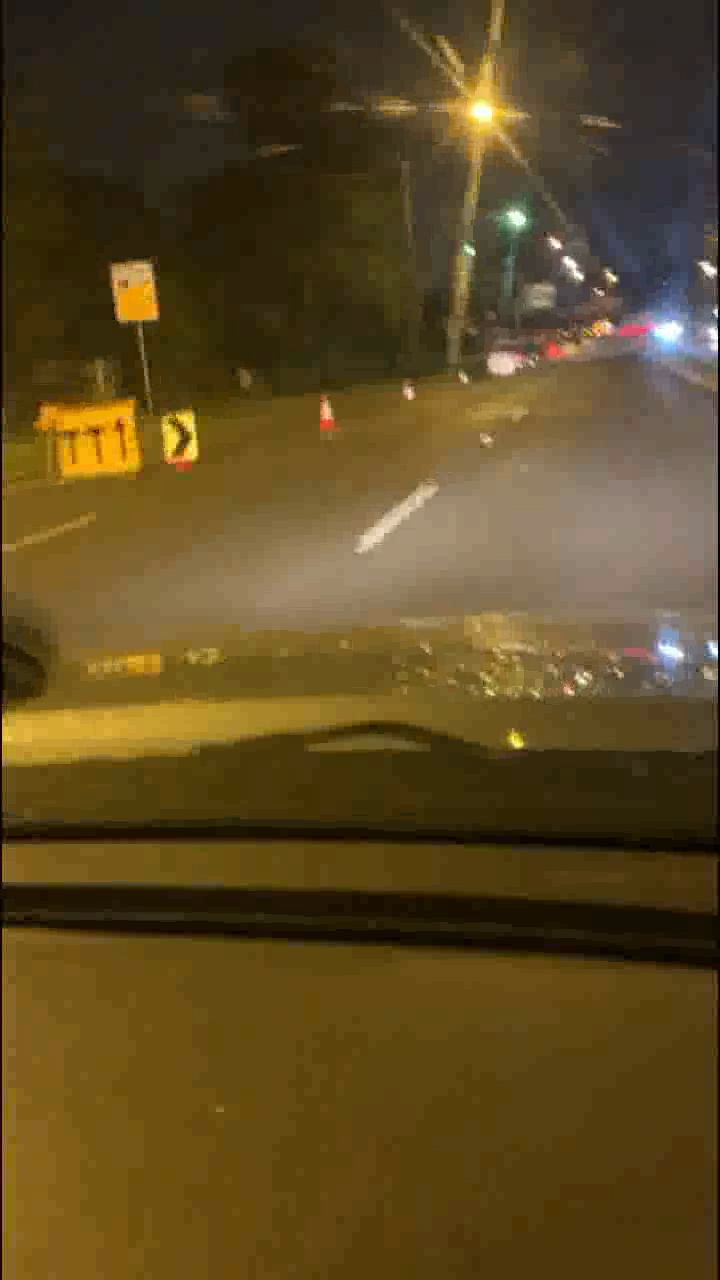road cone: (316, 394, 339, 434), (400, 375, 416, 396)
road works sign board: (39, 407, 139, 475), (158, 417, 199, 459)
